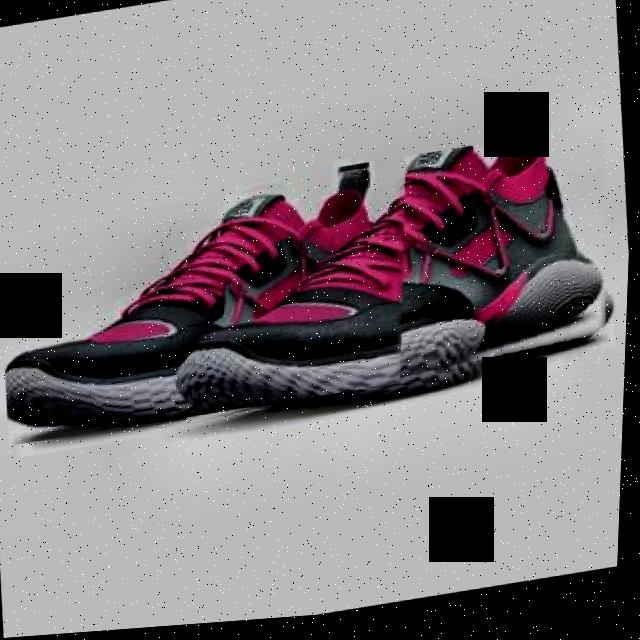shoe: (170, 132, 629, 429), (0, 161, 426, 447)
